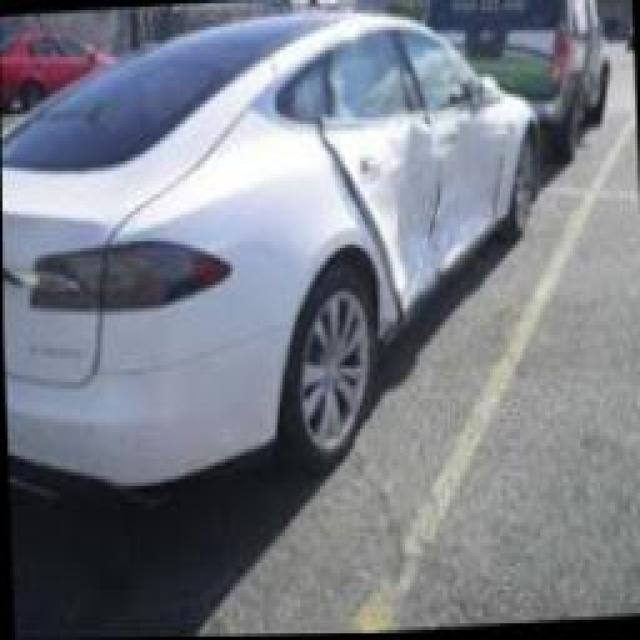Door: (338, 27, 440, 320)
